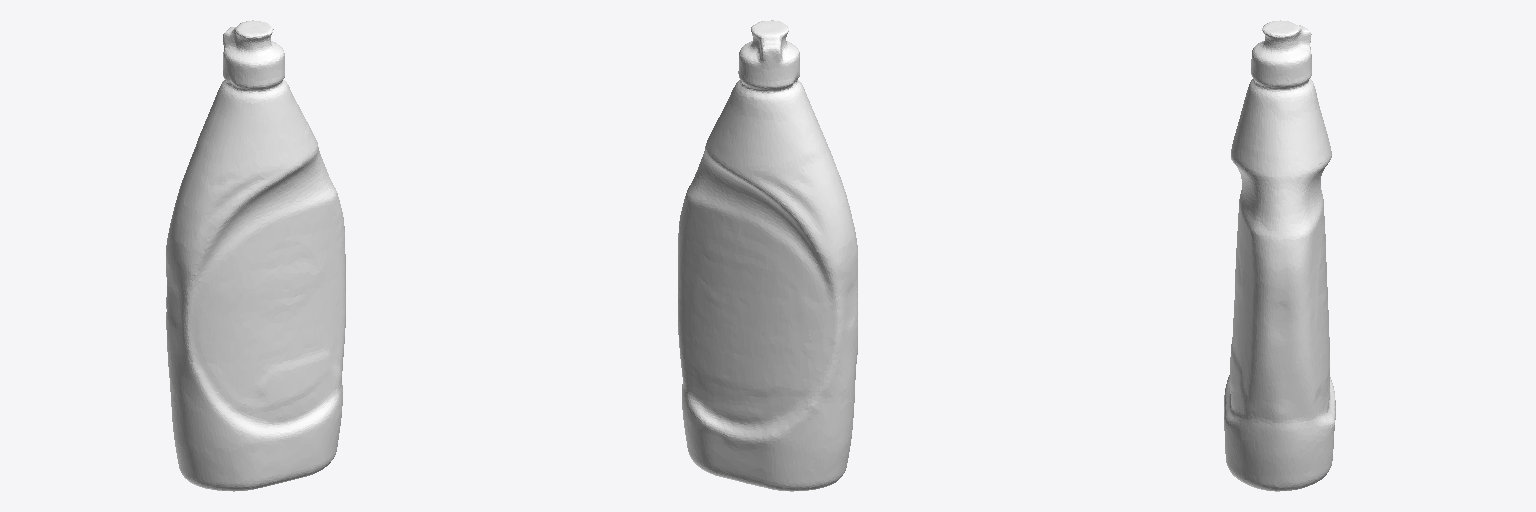
URDF robot description (23_dawn_0):
<?xml version='1.0' encoding='utf-8'?>
<robot name="23_dawn_0">
        <link name="link_0">
            <visual>
                <origin xyz="0.0 0.0 0.0" rpy="0.0 0.0 0.0" />
                <geometry>
                    <mesh filename="textured_objs/textured.obj" scale="1 1 1.0" />
                </geometry>
                <material name="white">
                    <color rgba="1 1 1 1" />
                </material>
            </visual>
            <collision>
                <origin xyz="0.0 0.0 0.0" rpy="0.0 0.0 0.0" />
                <geometry>
                    <mesh filename="textured_objs/textured.obj" scale="1 1 1.0" />
                </geometry>
            </collision>
            <inertial>
                <mass value="0.1" />
                <inertia ixx="0.0001" ixy="0.0" ixz="0.0" iyy="0.0001" iyz="0.0" izz="0.0001" />
            </inertial>
        </link>
    </robot>

--- What the picture shows (computed from the rendered views, not written in the file) ---
The picture shows the robot from 3 angles, left to right: view 1: azimuth 30°, elevation 25°; view 2: azimuth 150°, elevation 25°; view 3: azimuth 270°, elevation 25°; orthographic projection.
Model 23_dawn_0 with 1 links and 0 joints (none), rooted at link_0, posed all joints at 0.
Links seen in each view (by area): view 1: link_0; view 2: link_0; view 3: link_0.
Boxes of the visible links, x1,y1,x2,y2 form: link_0: (166, 20, 345, 491); link_0: (678, 20, 857, 491); link_0: (1224, 20, 1335, 491).
Size in the robot's own frame: 0.0937 by 0.0554 by 0.2378 metres.
1 mesh visuals loaded from 1 distinct referenced files (1 OBJ).